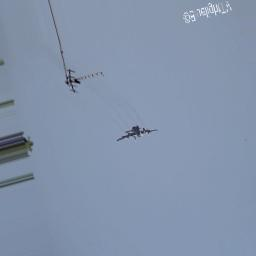Airplane: (116, 124, 160, 144)
